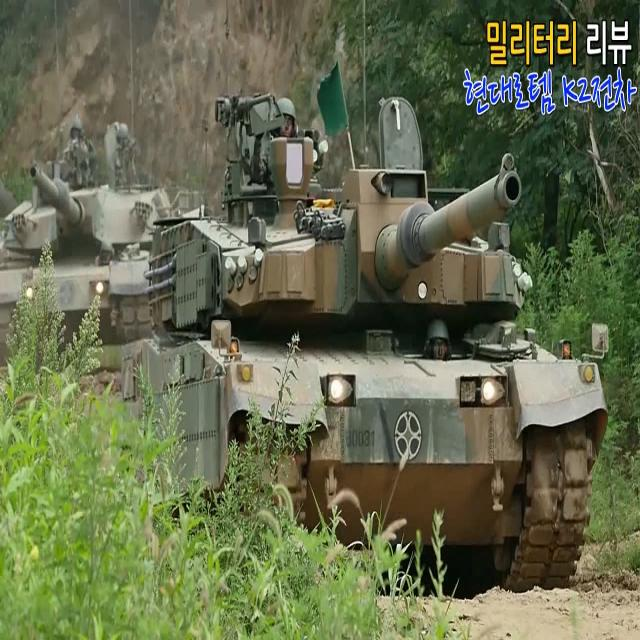korea tank: (117, 94, 609, 596)
